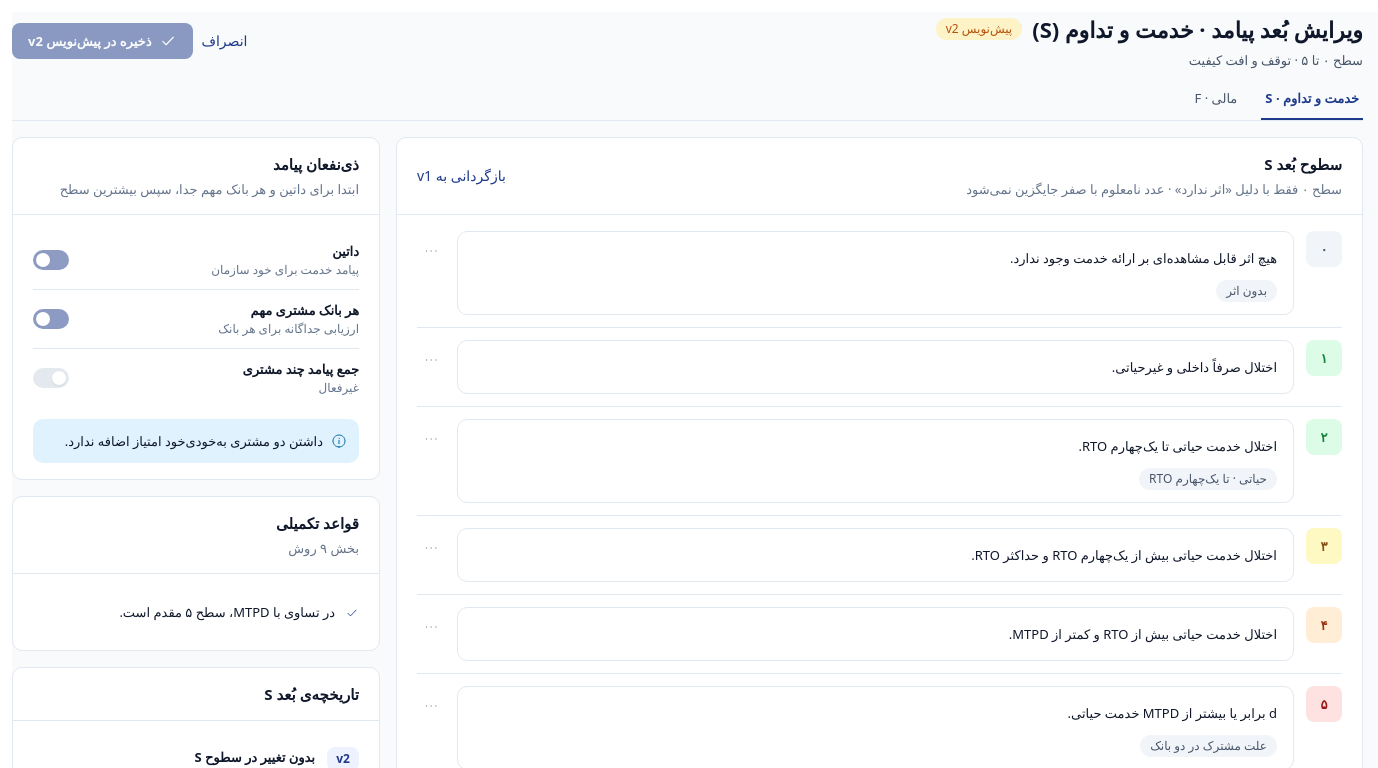
Test: ImpactLevelsPage › restores the levels of the base version
Click the button "بازگردانی به v1": coordinates (461, 176) [417,164,506,188]
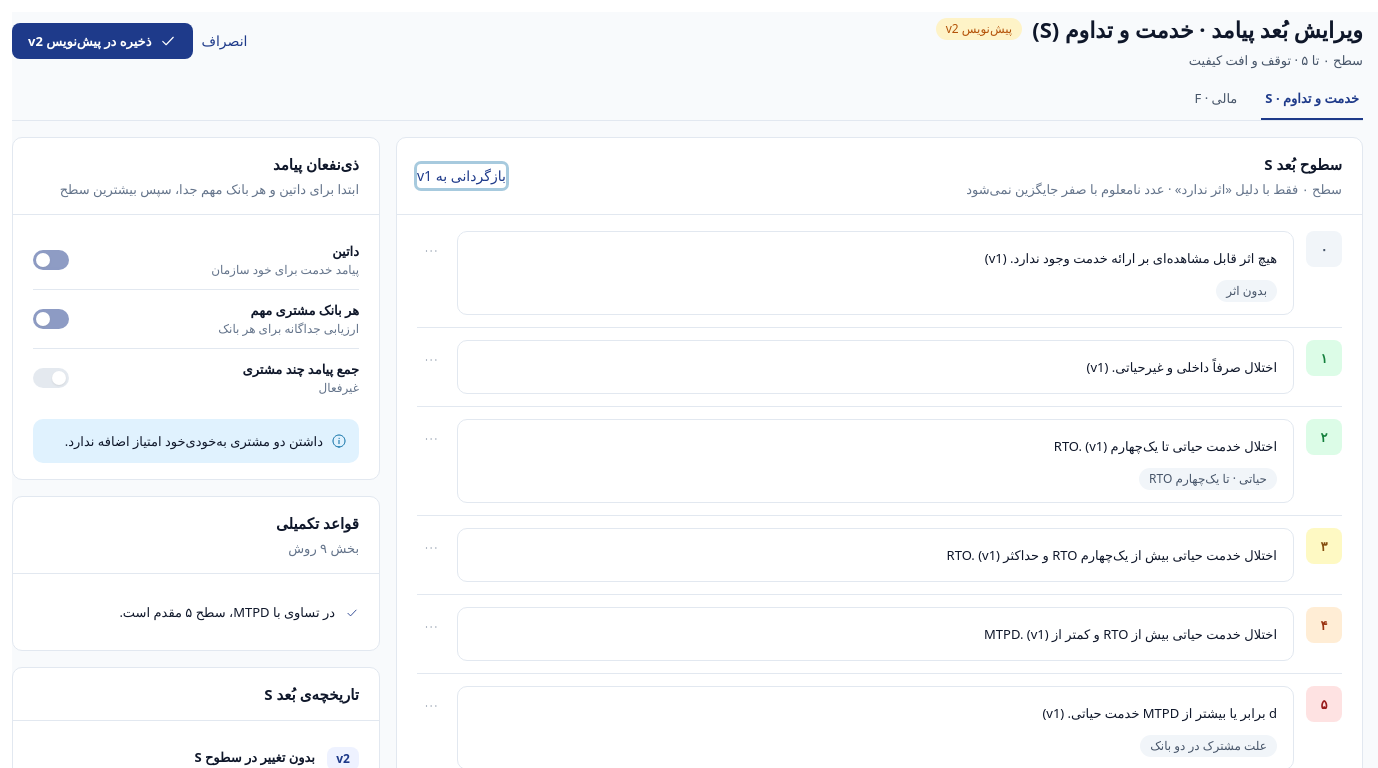
Result: the text box named "معیار سطح ۰" holds "هیچ اثر قابل مشاهده‌ای بر ارائه خدمت وجود ندارد. (v1)" at [474,244,1277,272]
Result: the button "ذخیره در پیش‌نویس v2" is enabled at [12,23,193,59]
